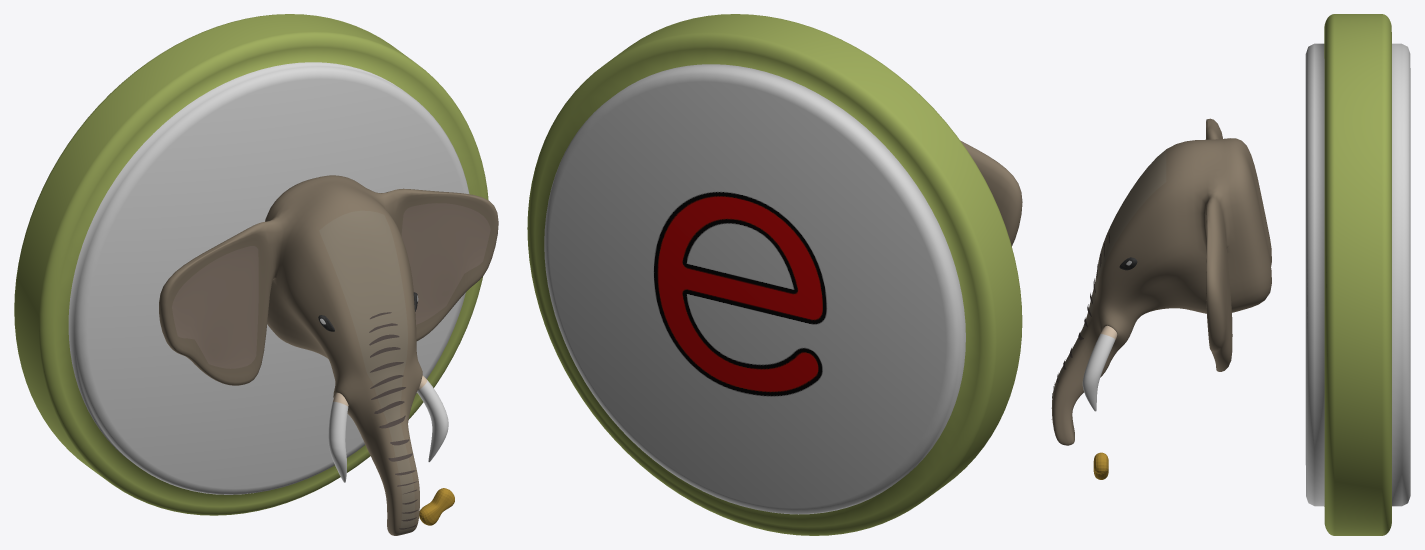
The model's file is elephant.gltf.
3 views of the same model, side by side, from view 1: azimuth 30°, elevation 25°; view 2: azimuth 150°, elevation 25°; view 3: azimuth 270°, elevation 25° (orthographic). The views are drawn at different scales.
Parts seen in each view (by area): view 1: coin, Cube.001, Cube; view 2: coin, Cube.001; view 3: coin, Cube.001.
Part boxes in pixels (<box>): coin: <box>14,14,488,515</box>; Cube.001: <box>159,175,498,535</box>; Cube: <box>419,488,454,525</box>; coin: <box>527,14,1022,535</box>; Cube.001: <box>960,140,1022,246</box>; coin: <box>1305,14,1410,535</box>; Cube.001: <box>1051,118,1271,445</box>.
Bounding box in the file's own units: 2.56 × 2.56 × 1.76.
Materials: 11 (1 with a texture image).
